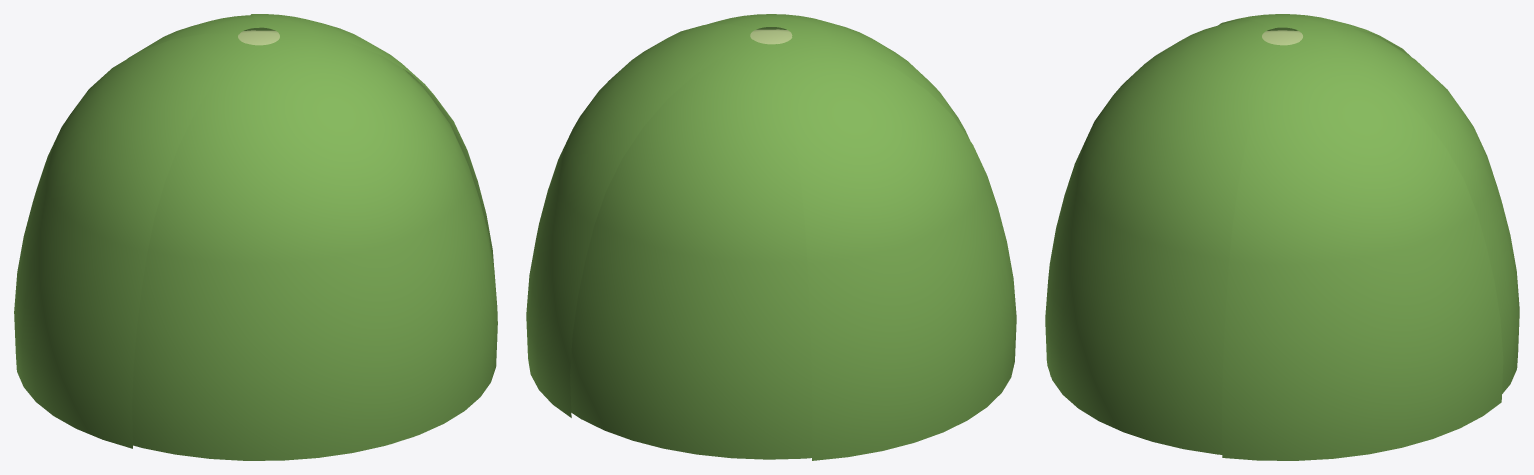
Rendered from cabbage.glb.
3 renders of one model, left to right at view 1: azimuth 30°, elevation 25°; view 2: azimuth 150°, elevation 25°; view 3: azimuth 270°, elevation 25°, orthographic.
Visible parts, largest first — view 1: package_mesh; view 2: package_mesh; view 3: package_mesh.
Boxes of the visible parts, <box> form: package_mesh: <box>14,14,497,460</box>; package_mesh: <box>526,14,1016,460</box>; package_mesh: <box>1045,14,1519,460</box>.
Bounding box in the file's own units: 0.4502 × 0.3896 × 0.4384.
